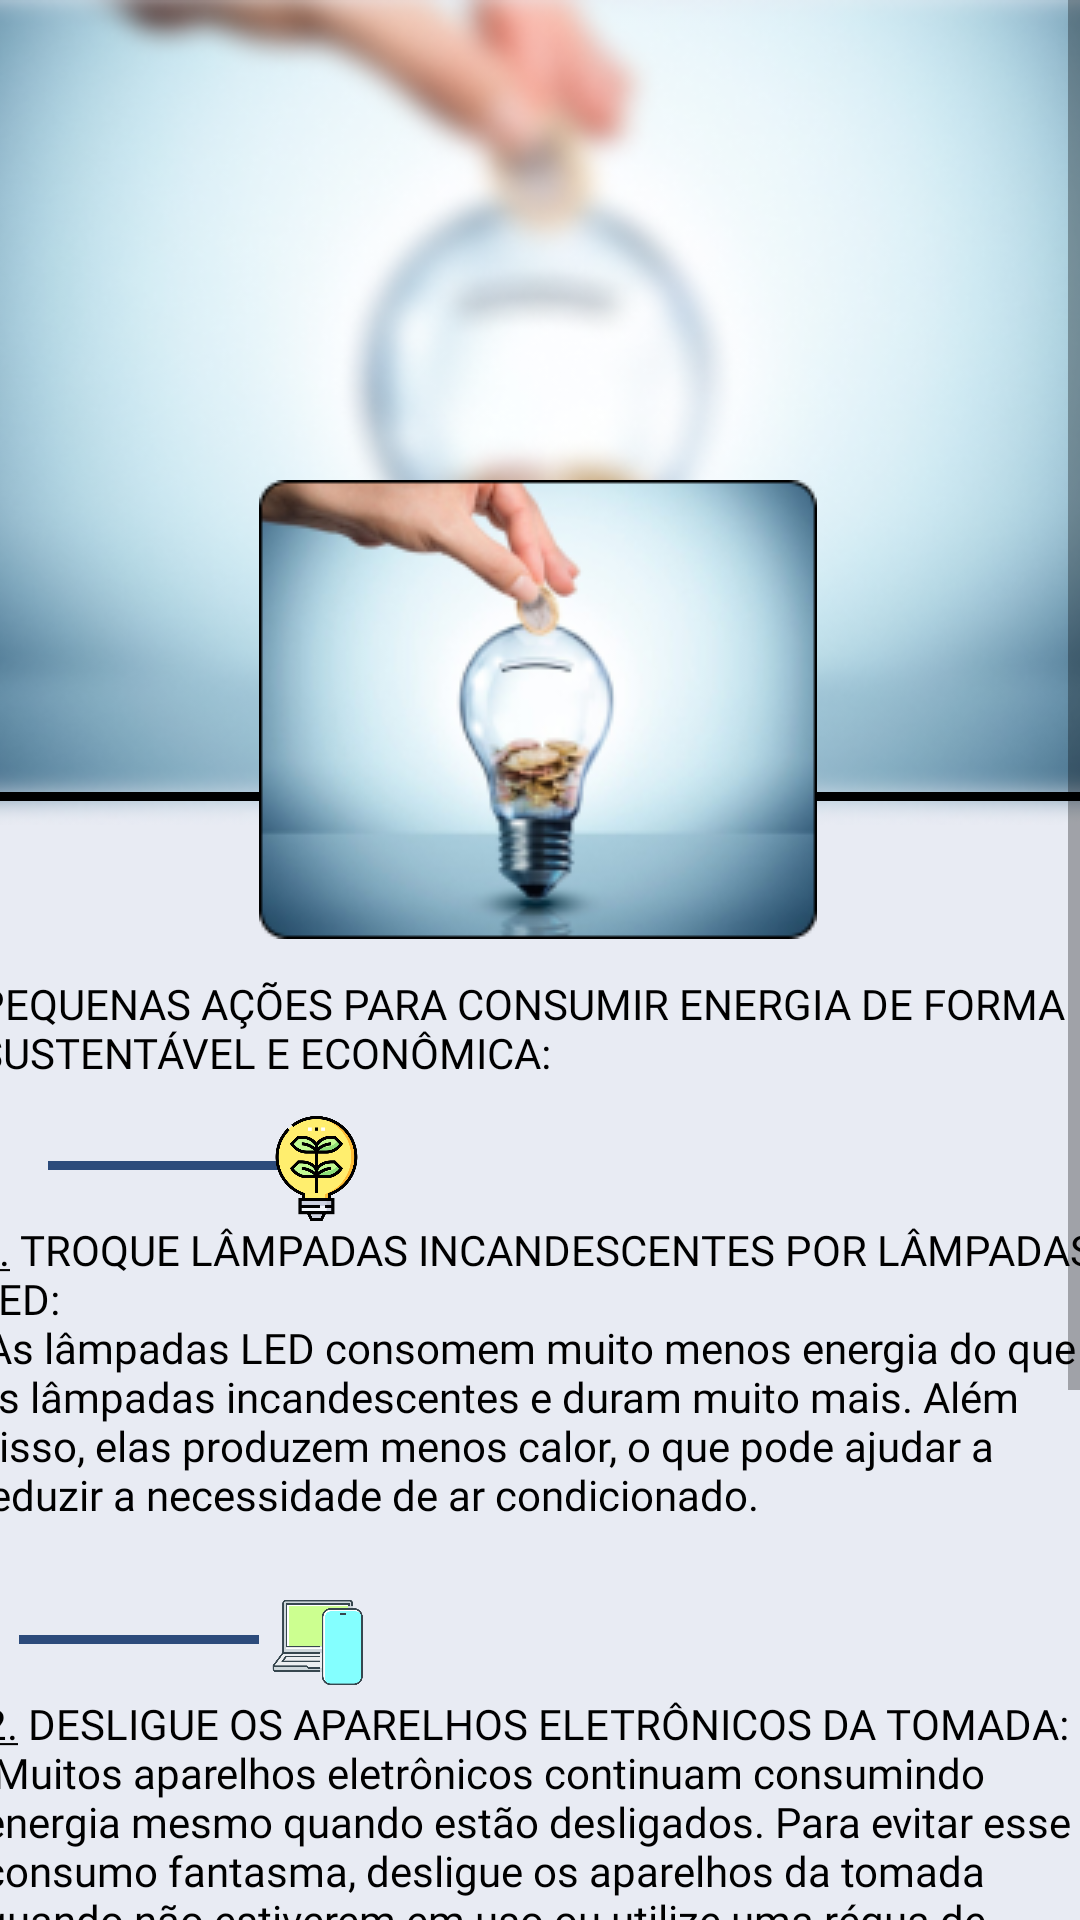

Screen size 1080 × 1920. Icon name, then its center in pixels as [x,y]:
electronic devices: [317,1642]
